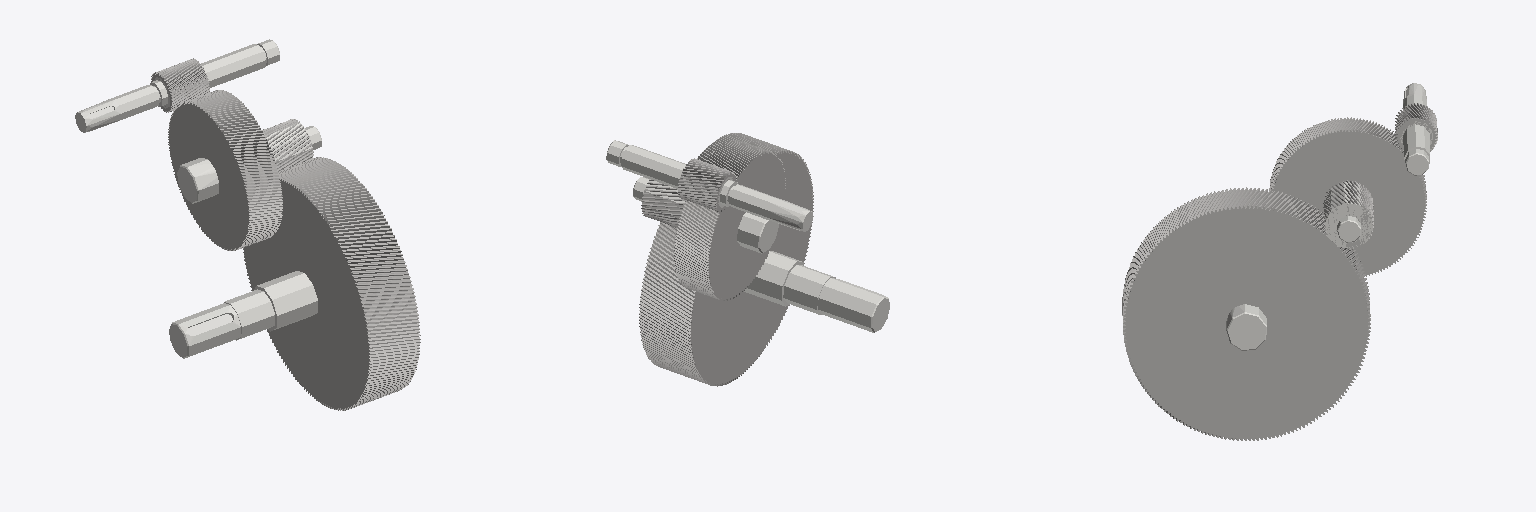
The model's file is reductor.obj.
The picture shows the model from 3 angles: view 1: azimuth 30°, elevation 25°; view 2: azimuth 150°, elevation 25°; view 3: azimuth 270°, elevation 25°; orthographic projection.
Visible parts, largest first — view 1: Solid1:1, Solid1:3, Твердое тело1:1, Твердое тело1:2, Твердое тело1, Solid1:2, Solid1; view 2: Solid1:1, Solid1:3, Твердое тело1:1, Твердое тело1:2, Твердое тело1, Solid1:2, Solid1; view 3: Solid1:1, Solid1:3, Твердое тело1, Твердое тело1:2, Твердое тело1:1, Solid1, Solid1:2.
Boxes of the visible parts, x1=… form: Solid1:1: x1=243, y1=157, x2=420, y2=410; Solid1:3: x1=168, y1=90, x2=282, y2=250; Твердое тело1:1: x1=169, y1=271, x2=317, y2=358; Твердое тело1:2: x1=75, y1=39, x2=279, y2=132; Твердое тело1: x1=177, y1=122, x2=321, y2=203; Solid1:2: x1=151, y1=58, x2=209, y2=112; Solid1: x1=263, y1=119, x2=313, y2=170; Solid1:1: x1=639, y1=133, x2=813, y2=386; Solid1:3: x1=674, y1=140, x2=785, y2=300; Твердое тело1:1: x1=744, y1=251, x2=889, y2=332; Твердое тело1:2: x1=606, y1=140, x2=813, y2=231; Твердое тело1: x1=633, y1=177, x2=778, y2=253; Solid1:2: x1=677, y1=158, x2=736, y2=211; Solid1: x1=641, y1=179, x2=685, y2=227; Solid1:1: x1=1122, y1=187, x2=1370, y2=440; Solid1:3: x1=1269, y1=117, x2=1426, y2=276; Твердое тело1: x1=1324, y1=182, x2=1372, y2=248; Твердое тело1:2: x1=1400, y1=83, x2=1432, y2=175; Твердое тело1:1: x1=1226, y1=304, x2=1266, y2=350; Solid1: x1=1323, y1=180, x2=1373, y2=249; Solid1:2: x1=1395, y1=103, x2=1437, y2=152.
Bounding box in the file's own units: 513 × 652 × 645.